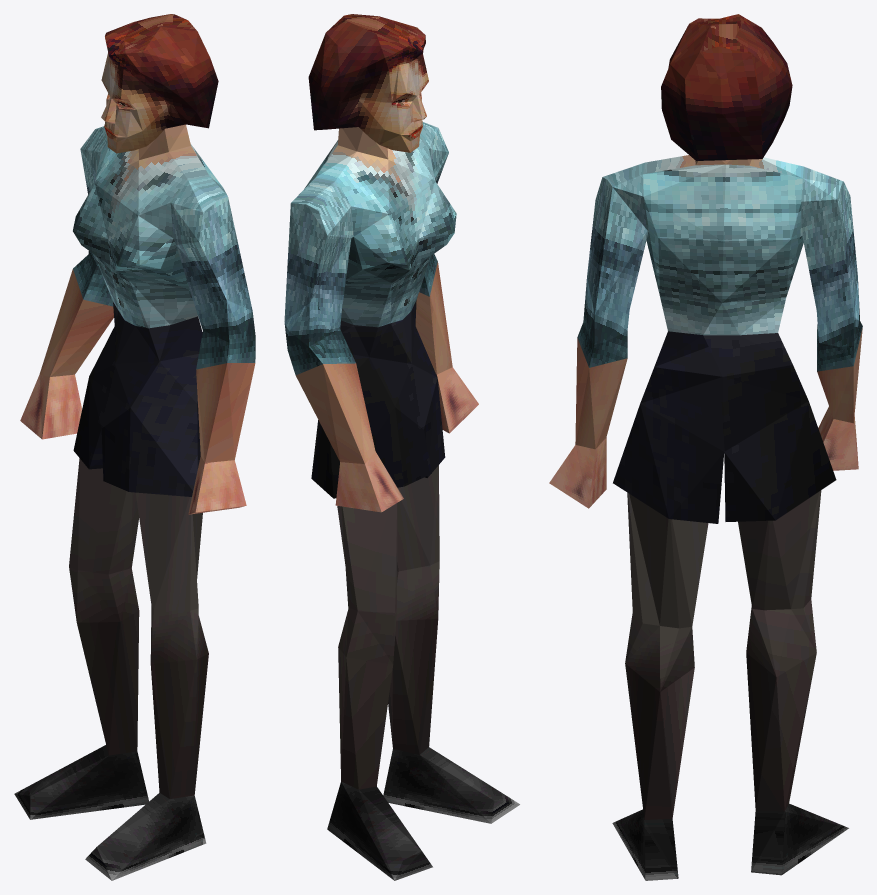
Rendered from primary_051.glb.
3 renders of one model, left to right at view 1: azimuth 30°, elevation 25°; view 2: azimuth 150°, elevation 25°; view 3: azimuth 270°, elevation 25°, orthographic. The views are drawn at different scales.
Visible parts, largest first — view 1: Object; view 2: Object; view 3: Object.
Part boxes in pixels (x1,y1,x2,y2): Object: (14, 14, 255, 880); Object: (284, 14, 519, 880); Object: (549, 14, 862, 880).
Size of the model in its own units: 0.3954 by 2.03 by 0.6799.
92 materials, 92 textured.
